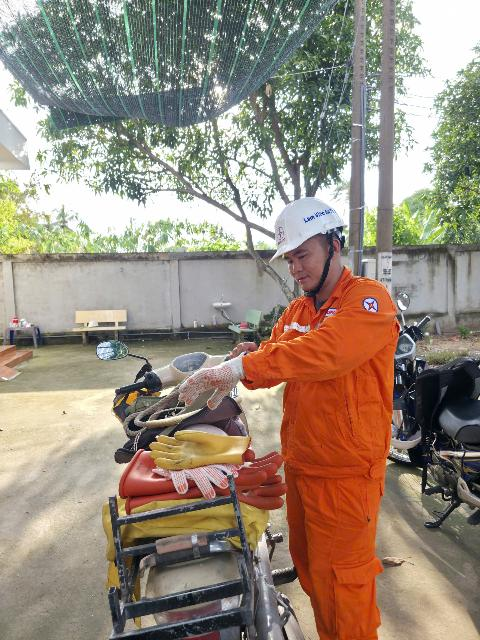gloves: (109, 433, 281, 485), (112, 468, 288, 512), (181, 351, 262, 410), (145, 433, 258, 473)
helmet: (263, 183, 355, 268)
